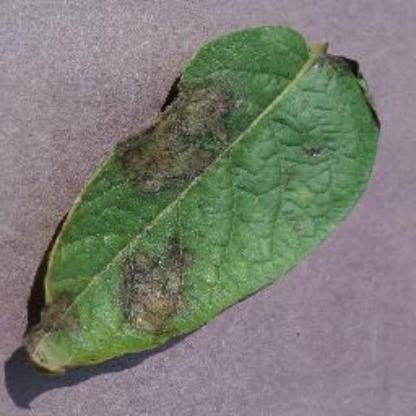Late-Blight: (24, 8, 398, 386)
